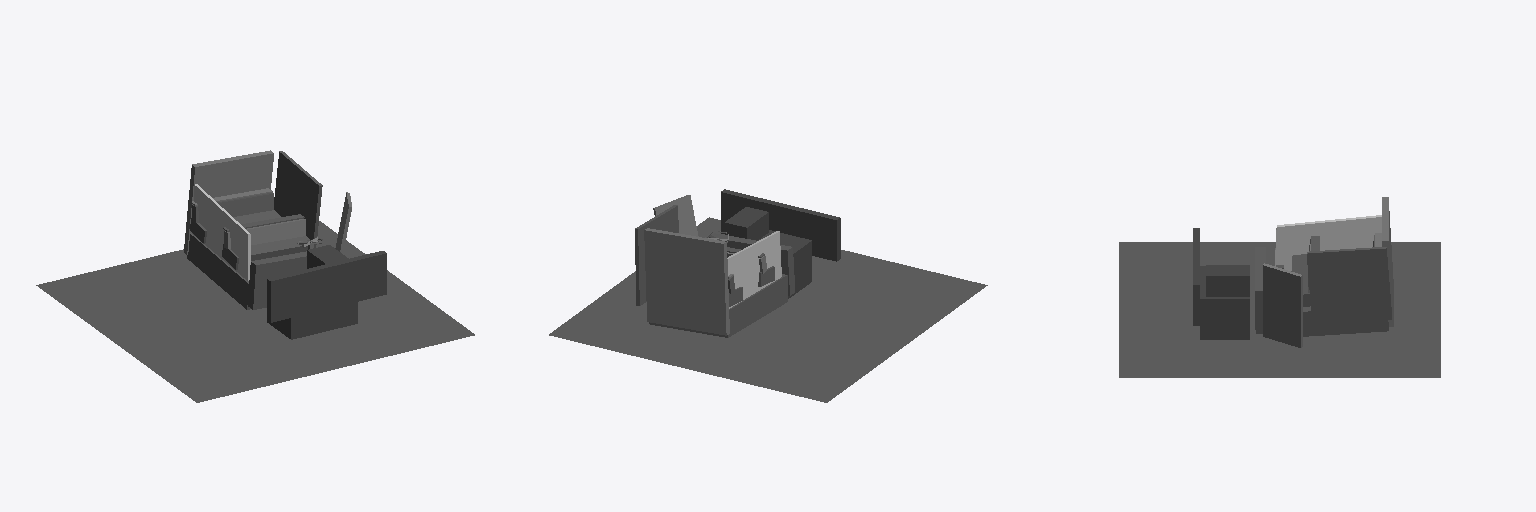
File: truck_spider11.obj
3 renders of one model, left to right at view 1: azimuth 30°, elevation 25°; view 2: azimuth 150°, elevation 25°; view 3: azimuth 270°, elevation 25°, orthographic.
Parts seen in each view (by area): view 1: Plane.003, Cube.000_Cube.039, Cube.009, Cube.063, Cube.114, Cube.001_Cube.012, Cube.064, Cube.049, Cube.000_Cube.001, Cube.059, Cube.065, Cube.012_Cube.040 (+1 smaller); view 2: Plane.003, Cube.009, Cube.000_Cube.039, Cube.114, Cube.064, Cube.063, Cube.001_Cube.012, Cube.012_Cube.040, Cube.049, Cube.036; view 3: Plane.003, Cube.063, Cube.114, Cube.036, Cube.001_Cube.012, Cube.012_Cube.040, Cube.064, Cube.049, Cube.009, Cube.000_Cube.039.
Part boxes in pixels (x1,y1,x2,y2): Plane.003: (36,221,474,402); Cube.000_Cube.039: (267,251,386,322); Cube.009: (184,150,273,254); Cube.063: (274,151,322,247); Cube.114: (192,184,250,280); Cube.001_Cube.012: (223,214,357,339); Cube.064: (187,233,250,309); Cube.049: (248,251,306,309); Cube.000_Cube.001: (224,219,305,248); Cube.059: (222,236,309,269); Cube.065: (192,193,273,222); Cube.012_Cube.040: (307,245,348,268); Plane.003: (549,217,987,402); Cube.009: (644,228,729,335); Cube.000_Cube.039: (721,189,840,261); Cube.114: (727,231,781,308); Cube.064: (649,274,787,337); Cube.063: (635,205,678,305); Cube.001_Cube.012: (727,230,811,298); Cube.012_Cube.040: (725,207,768,240); Cube.049: (709,233,794,295); Cube.036: (653,195,698,236); Plane.003: (1119,242,1440,377); Cube.063: (1307,247,1391,324); Cube.114: (1275,215,1381,270); Cube.036: (1263,263,1302,347); Cube.001_Cube.012: (1200,236,1319,339); Cube.012_Cube.040: (1206,265,1249,296); Cube.064: (1291,271,1388,336); Cube.049: (1255,247,1265,333); Cube.009: (1382,197,1393,326); Cube.000_Cube.039: (1193,228,1199,325).
Bounding box in the file's own units: 8.46 × 3.14 × 8.46.